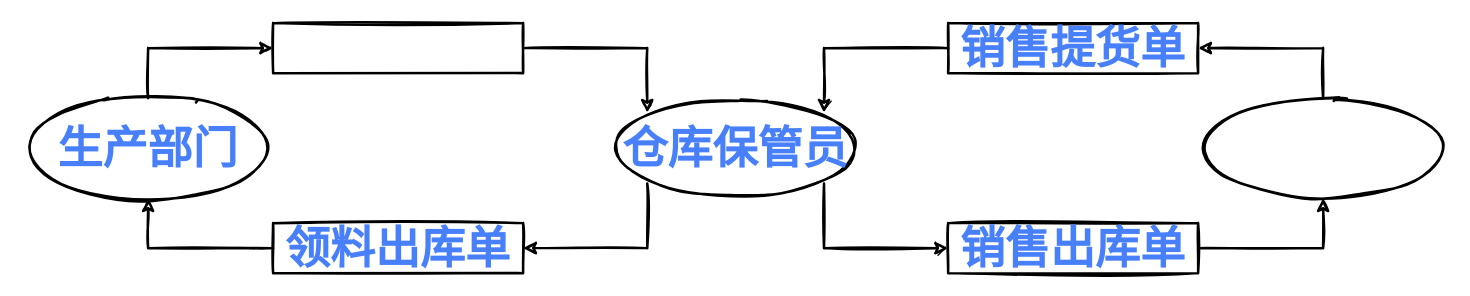
This 1470x296 diagram has some shape labels left out. The box of each missing label's shape, as (x1, y1, x2, y2) in pixels:
销售部门: (1196, 96, 1449, 199)
领料单: (271, 21, 524, 74)
